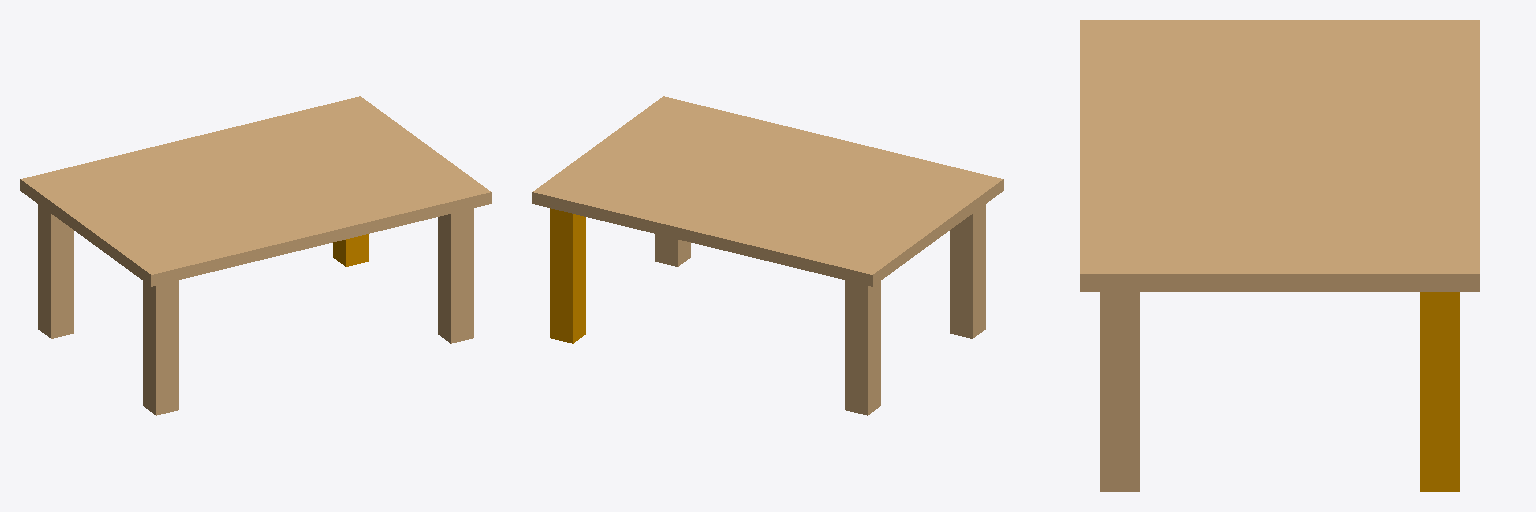
The robot description file, URDF, robot "table.urdf":
<?xml version="0.0" ?>
<robot name="table.urdf">
  <link name="baseLink">
    <contact>
      <lateral_friction value="1.0"/>
    </contact>
    <inertial>
      <origin rpy="0 0 0" xyz="0 0 0"/>
       <mass value=".0"/>
       <inertia ixx="1" ixy="0" ixz="0" iyy="1" iyz="0" izz="1"/>
    </inertial>
    <visual>
      <origin rpy="0 0 0" xyz="0 0 0.6"/>
      <geometry>
	<mesh filename="table.obj" scale="1.5 1 0.05"/>
      </geometry>
       <material name="white">
         <!-- <color rgba="1 0 0 1"/> -->
	 <color rgba="0.87 .721 .529 1"/>
       </material>
    </visual>
    <collision>
      <origin rpy="0 0 0" xyz="0 0 0.6"/>
      <geometry>
	 	<box size="1.5 1 0.05"/>
      </geometry>
    </collision>
	<visual>
      <origin rpy="0 0 0" xyz="-0.65 -0.4 0.29"/>
      <geometry>
	    <mesh filename="table.obj" scale="0.1 0.1 0.58"/>
      </geometry>
	  <material name="white"/>
    </visual>
    <visual>
      <origin rpy="0 0 0" xyz="-0.65 0.4 0.29"/>
      <geometry>
        <mesh filename="table.obj" scale="0.1 0.1 0.58"/>
      </geometry>
	  <material name="white"/>
	  </visual>
    <visual>
      <origin rpy="0 0 0" xyz="0.65 -0.4 0.29"/>
      <geometry>
        <mesh filename="table.obj" scale="0.1 0.1 0.58"/>
      </geometry>
	  <material name="white"/>
	  </visual>
    <visual>
      <origin rpy="0 0 0" xyz="0.65 0.4 0.29"/>
      <geometry>
        <mesh filename="table.obj" scale="0.1 0.1 0.58"/>
      </geometry>
    </visual>
  </link>
</robot>

--- What the picture shows (computed from the rendered views, not written in the file) ---
3 views of the same robot in one strip: view 1: azimuth 30°, elevation 25°; view 2: azimuth 150°, elevation 25°; view 3: azimuth 270°, elevation 25° (orthographic).
Robot: table.urdf — 1 links, 0 joints (none); root link baseLink; default pose: all joints at 0.
Links seen in each view (by area): view 1: baseLink; view 2: baseLink; view 3: baseLink.
Link boxes in pixels (<box>): baseLink: <box>20,96,491,415</box>; baseLink: <box>532,96,1003,415</box>; baseLink: <box>1080,20,1479,491</box>.
Bounding box of the posed robot: 1.5 × 1 × 0.625 m (x, y, z).
5 mesh visuals loaded from 1 distinct referenced files (1 OBJ).